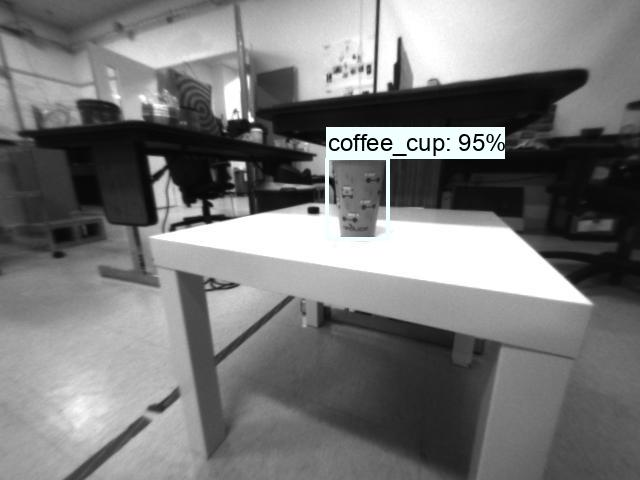coffee_cup: (327, 156, 390, 240)
